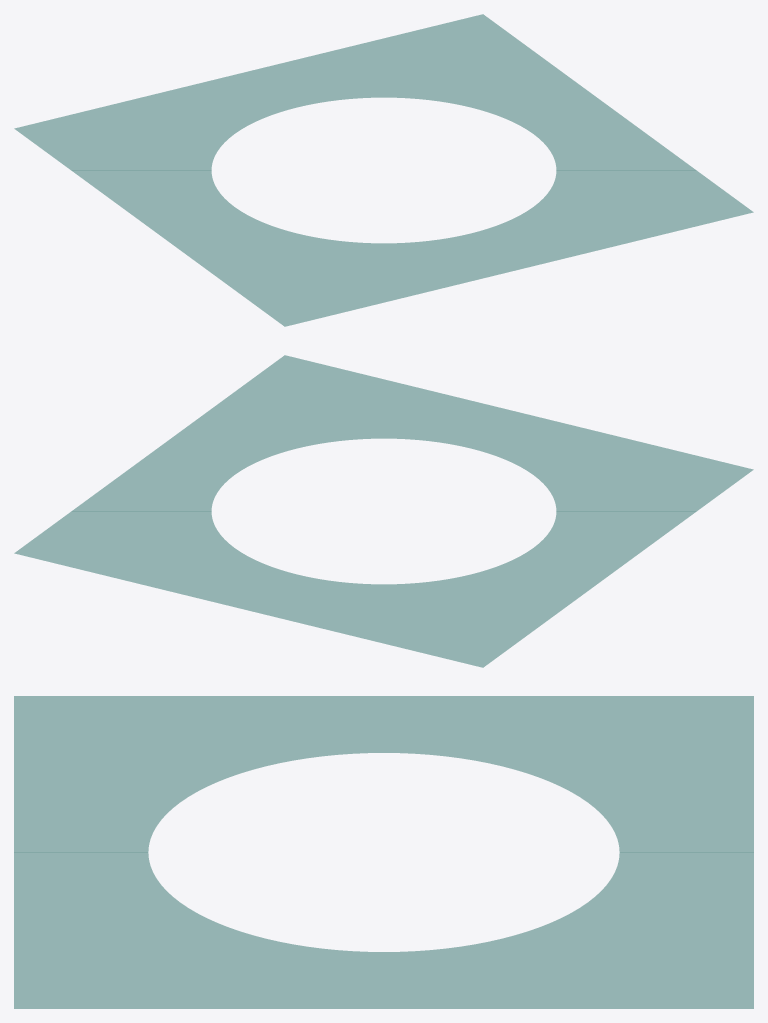
File: reference-ocean-surround.glb
3 views of the same model, one above another, from view 1: azimuth 30°, elevation 25°; view 2: azimuth 150°, elevation 25°; view 3: azimuth 270°, elevation 25° (orthographic). The views are drawn at different scales.
Parts seen in each view (by area): view 1: Reference Ocean Surround; view 2: Reference Ocean Surround; view 3: Reference Ocean Surround.
Part boxes in pixels (x1,y1,x2,y2): Reference Ocean Surround: (14,14,753,326); Reference Ocean Surround: (14,355,753,667); Reference Ocean Surround: (14,696,753,1008).
Bounding box in the file's own units: 702 × 0 × 702.
